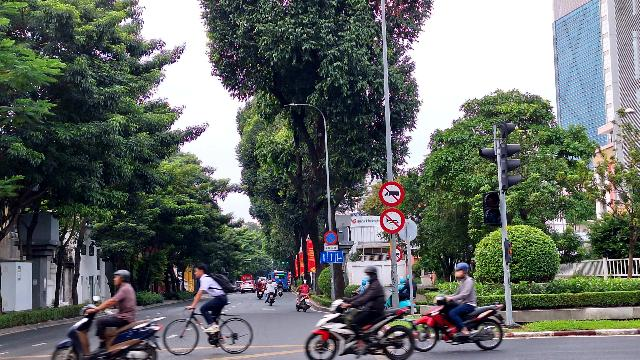cam-bop-coi: (379, 208, 405, 234)
cam-do-xe: (324, 231, 338, 245)
